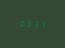seven: (39, 20, 45, 28)
three: (32, 20, 38, 28)
zero: (18, 19, 24, 27), (25, 19, 31, 27)
